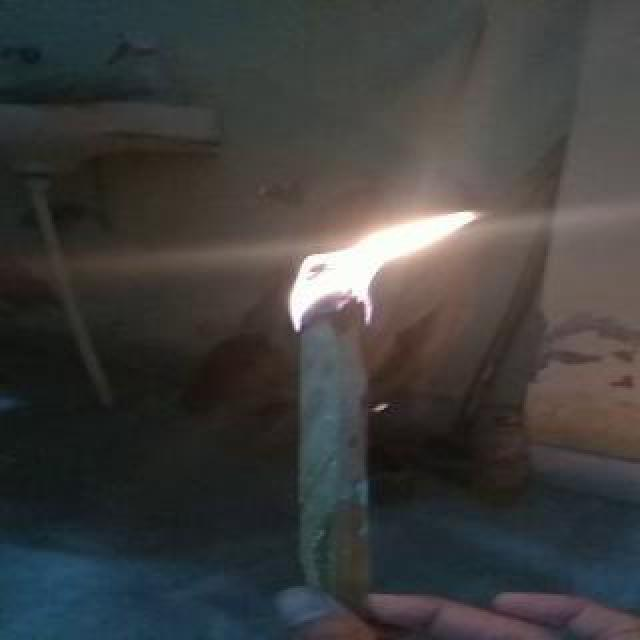Fire: (272, 184, 526, 340)
